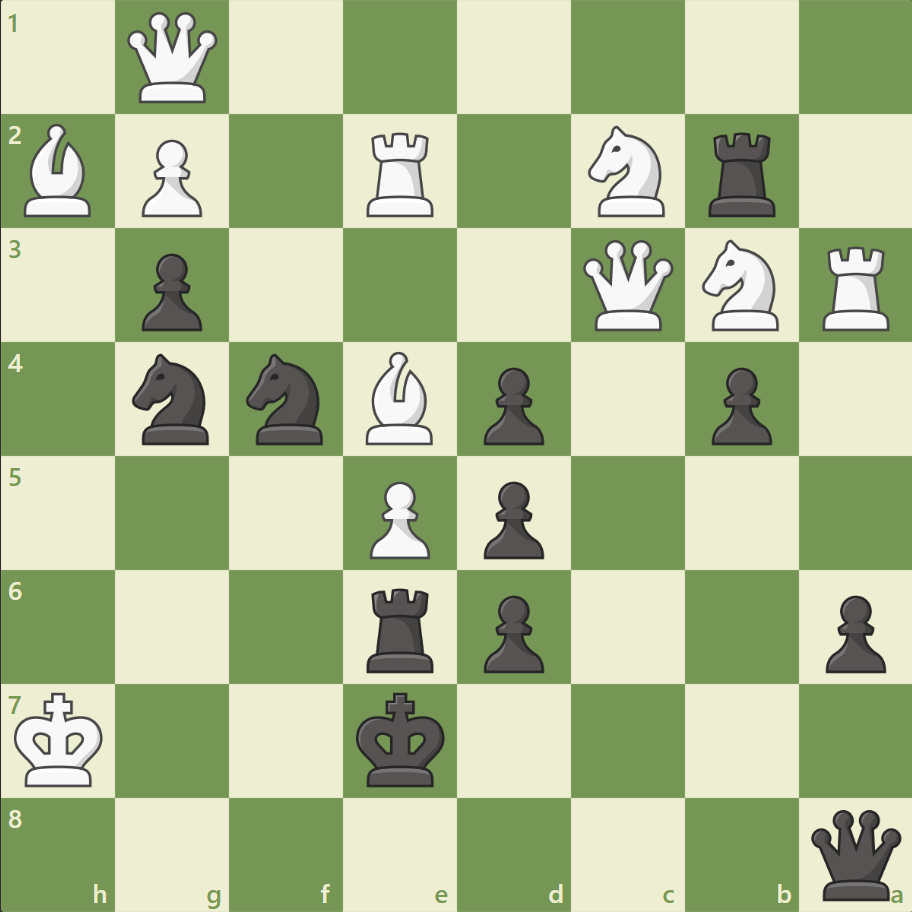B: (358, 347, 442, 449), (17, 120, 101, 222)
K: (11, 685, 111, 793)
N: (692, 234, 789, 337), (579, 121, 676, 223)
P: (133, 132, 208, 223), (361, 473, 435, 564)
Q: (578, 236, 677, 335), (124, 9, 223, 108)
R: (814, 239, 897, 336), (360, 125, 442, 222)
k: (351, 685, 451, 793)
n: (124, 348, 222, 450), (238, 348, 335, 450)
p: (474, 586, 549, 677), (474, 473, 549, 564), (701, 359, 776, 450), (474, 359, 549, 450), (133, 246, 208, 337), (815, 586, 889, 677)
q: (805, 804, 904, 903)
r: (700, 125, 783, 222), (360, 579, 442, 676)
